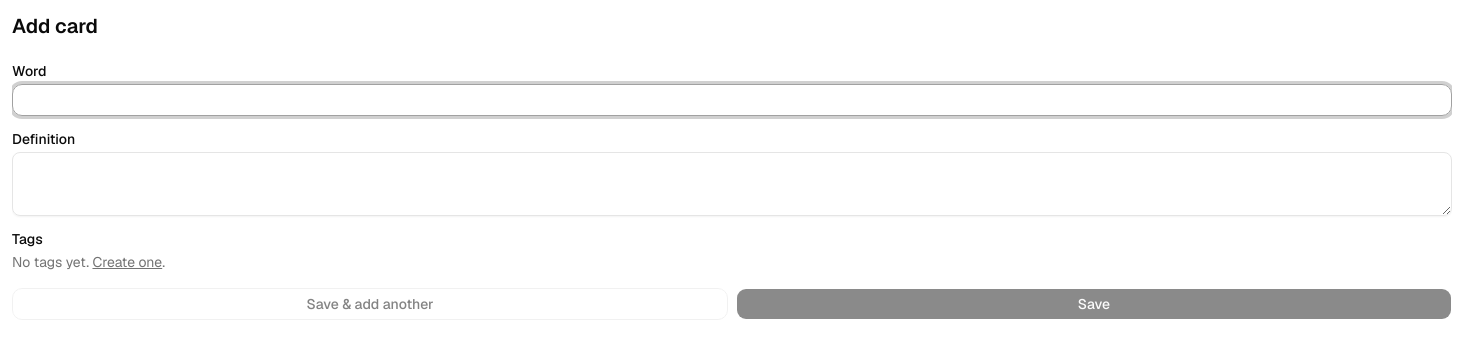
Test case: AddPage › save buttons disabled until both fields filled
Expected: the button "Save" is disabled, left=736, top=288, right=1452, bottom=320
Expected: the button "Save & add another" is disabled, left=12, top=288, right=728, bottom=320
Type "hello" into the field labelled "Word" at [732, 100], box left=12, top=84, right=1452, bottom=116
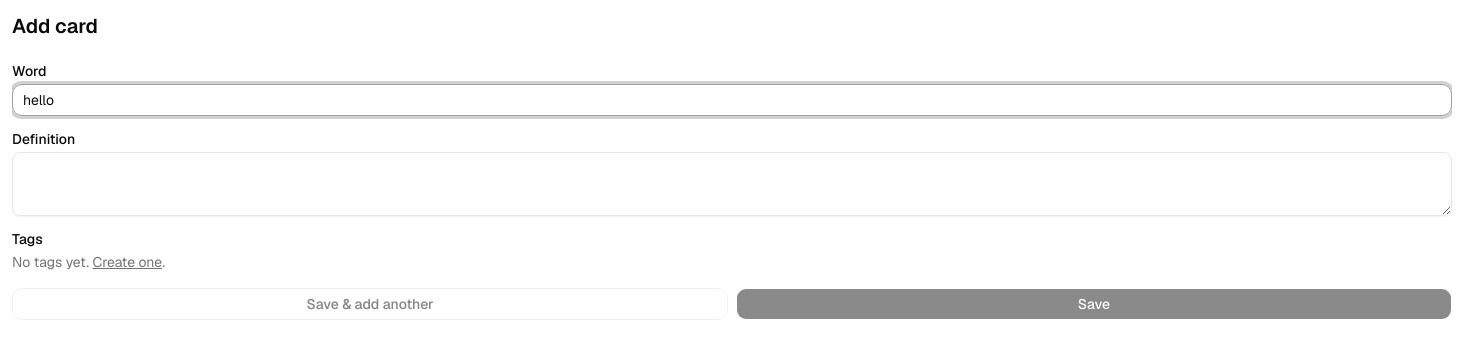
Expected: the button "Save" is disabled, left=736, top=288, right=1452, bottom=320
Type "greeting" into the text box labelled "Definition" at [732, 184], box left=12, top=152, right=1452, bottom=216
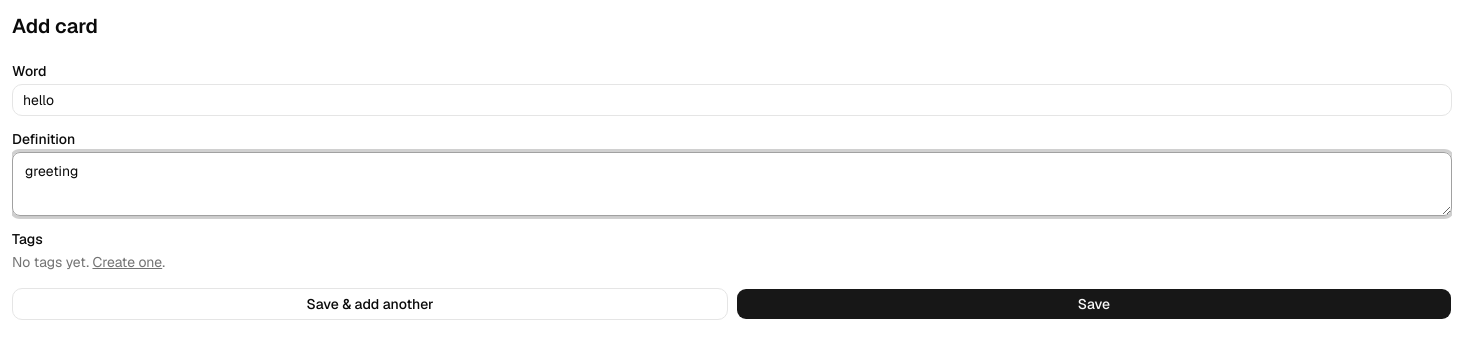
Expected: the button "Save" is enabled, left=736, top=288, right=1452, bottom=320
Expected: the button "Save & add another" is enabled, left=12, top=288, right=728, bottom=320
